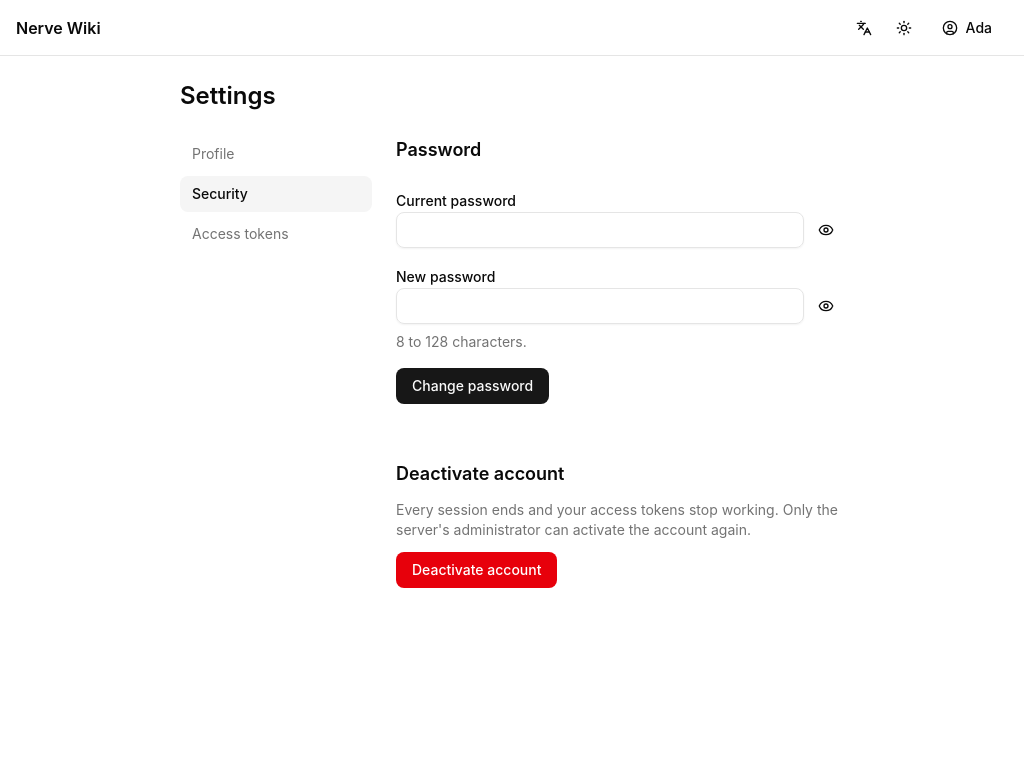
Scenario: the password is checked here first: nothing goes out while a field is wrong
The image size is (1024, 768).
Clear the password field labelled "Current password" at (600, 230), box 396,212 -> 804,248
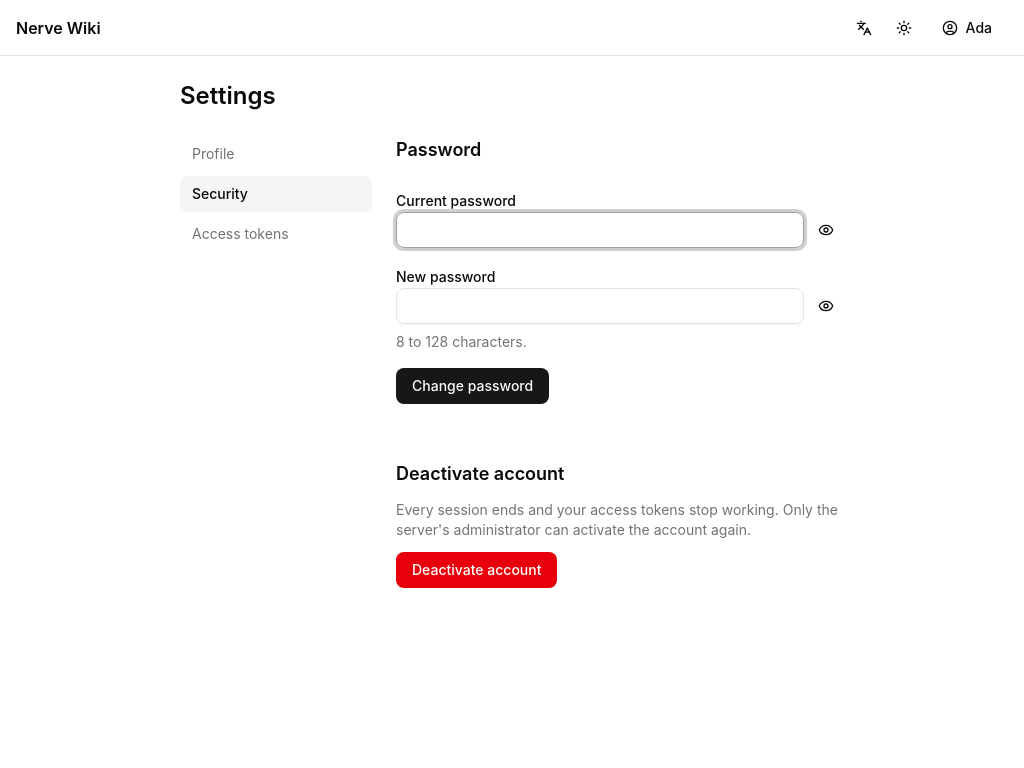
Type "short" into the password field labelled "New password" at (600, 306), box 396,288 -> 804,324
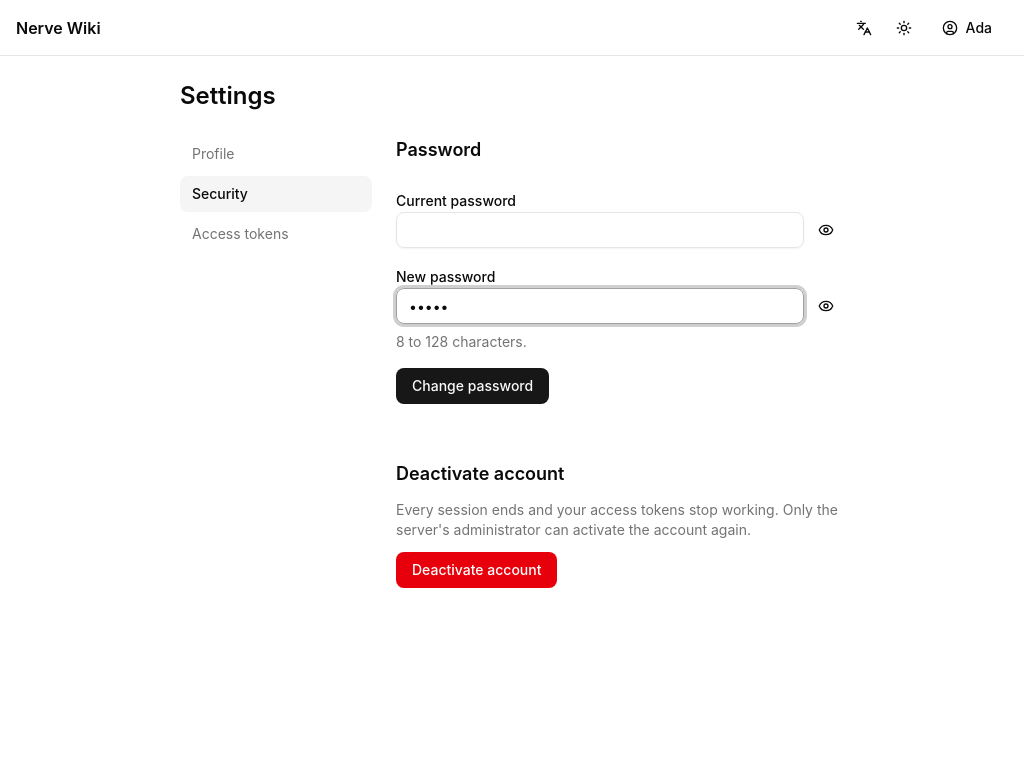
Click the button "Change password" at (473, 386), box 396,368 -> 549,404
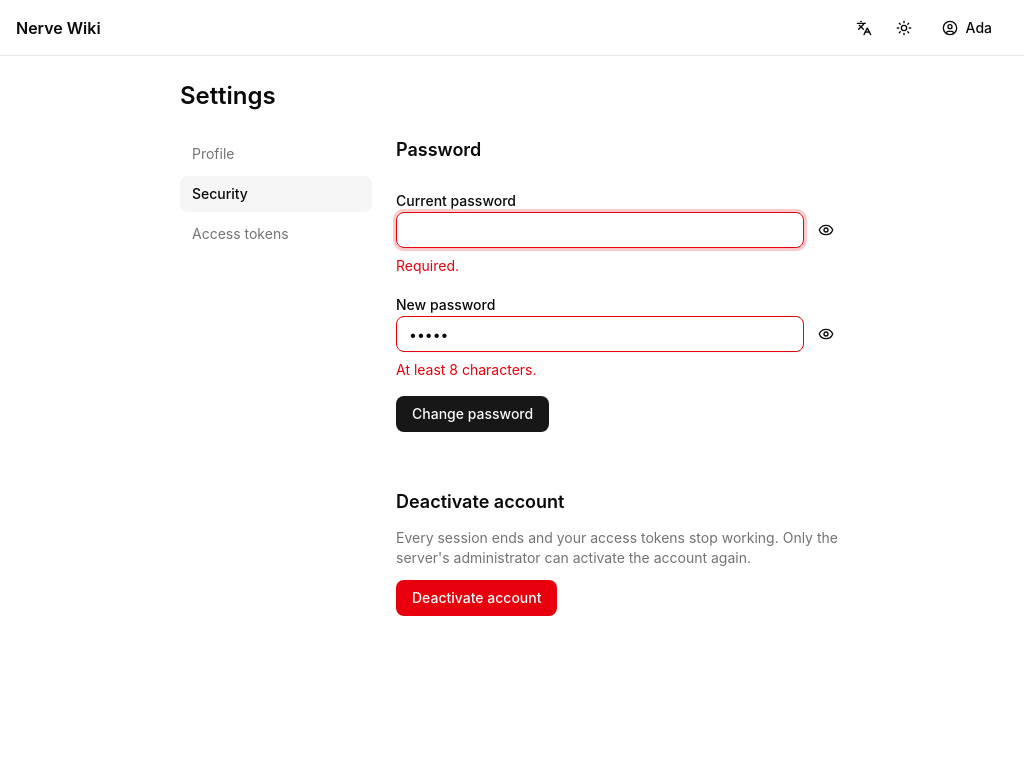
Expected: the text "Required." is shown, 396,257 -> 459,274
Expected: the text "At least 8 characters." is shown, 396,361 -> 536,378
